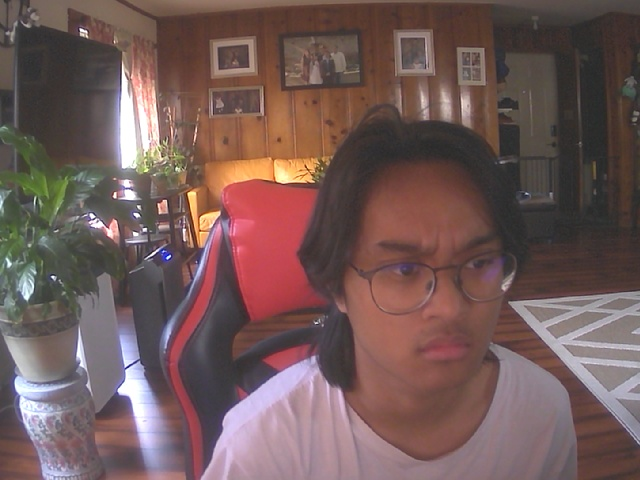anger: (320, 136, 522, 398)
